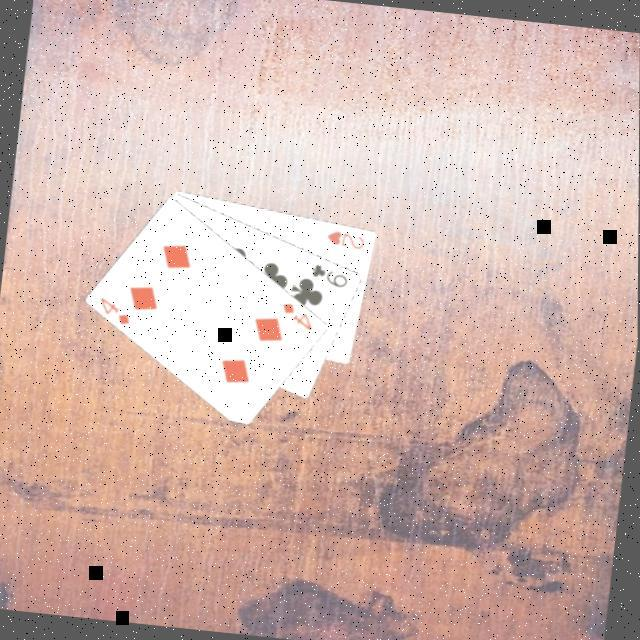2H: (321, 223, 367, 250)
4D: (275, 296, 316, 332), (92, 291, 134, 326)
9C: (304, 257, 350, 289)
